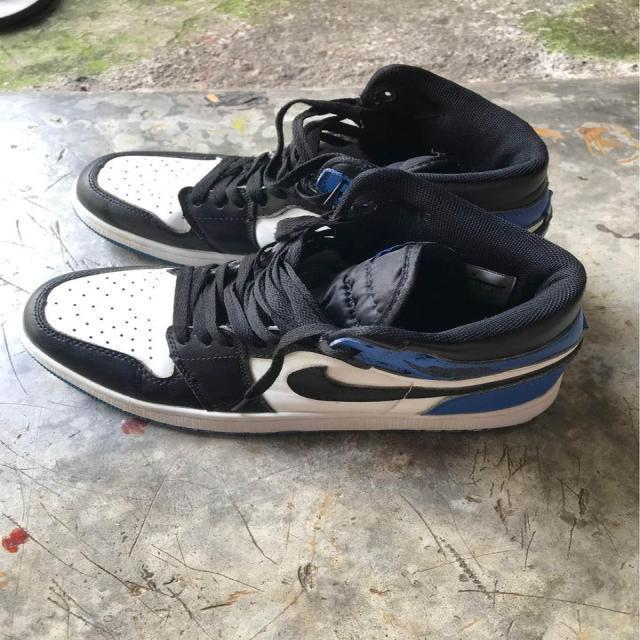nike fake jordan 1: (27, 167, 622, 440), (74, 60, 554, 270)
